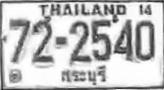0: (135, 19, 154, 60)
2: (31, 16, 53, 63), (68, 19, 88, 62)
4: (113, 18, 132, 60)
5: (91, 19, 111, 60)
7: (8, 17, 30, 62)
SBR: (58, 65, 109, 87)
